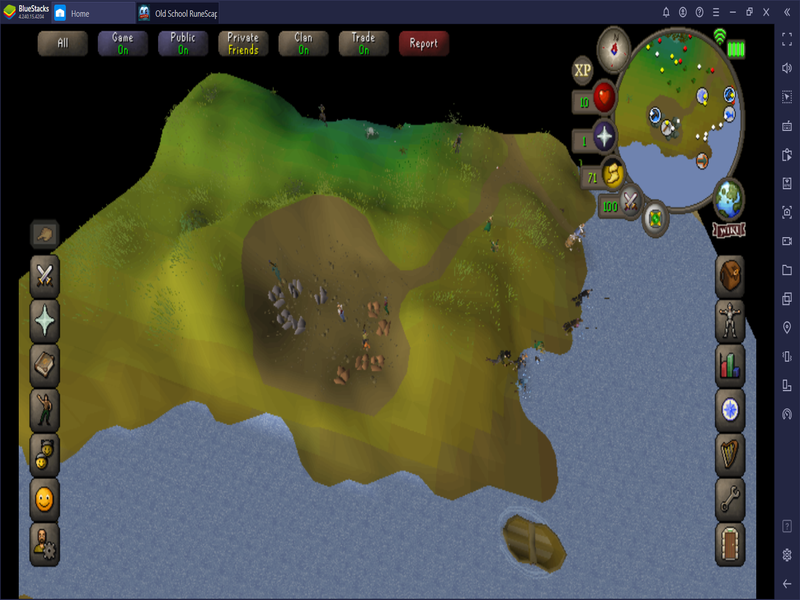copper_rock_1: (365, 300, 382, 319)
copper_rock_2: (376, 319, 394, 337)
